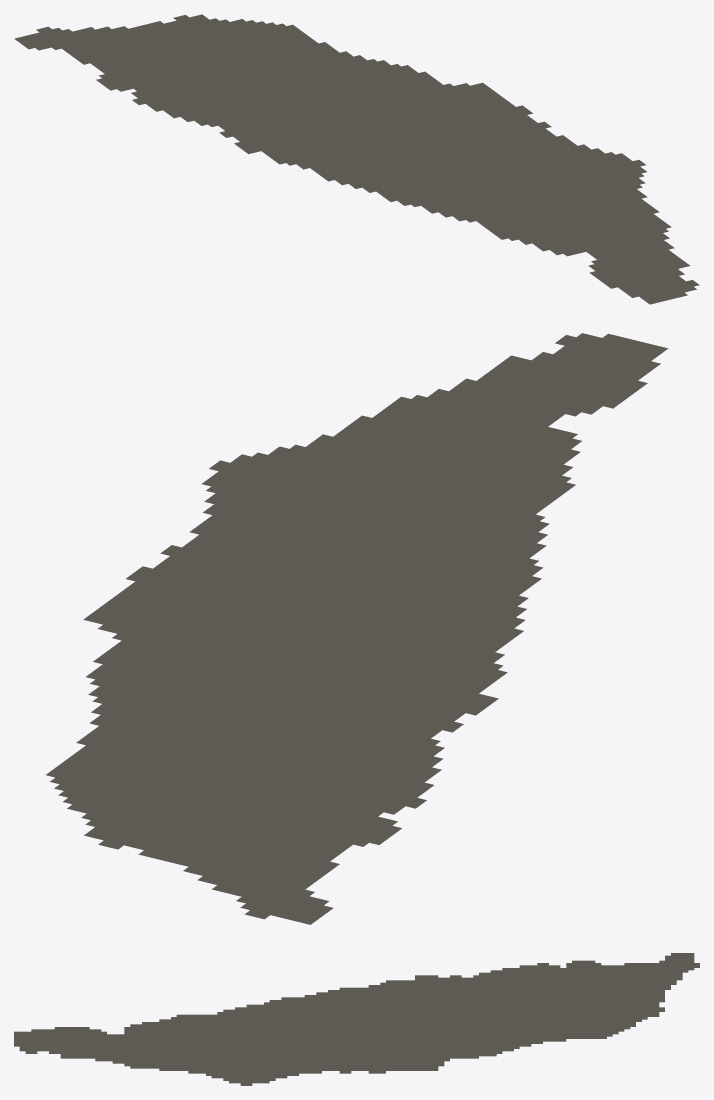
File: Isl-long2-NoBuildArea.fbx
3 renders of one model, top to bottom at view 1: azimuth 30°, elevation 25°; view 2: azimuth 150°, elevation 25°; view 3: azimuth 270°, elevation 25°, orthographic. The views are drawn at different scales.
Visible parts, largest first — view 1: Isl-long2-NoBuildArea; view 2: Isl-long2-NoBuildArea; view 3: Isl-long2-NoBuildArea.
Boxes of the visible parts, left/top/right/bottom form: Isl-long2-NoBuildArea: left=14, top=14, right=699, bottom=304; Isl-long2-NoBuildArea: left=46, top=333, right=668, bottom=924; Isl-long2-NoBuildArea: left=14, top=953, right=699, bottom=1085.
Size of the model in its own units: 54 by 0 by 118.
